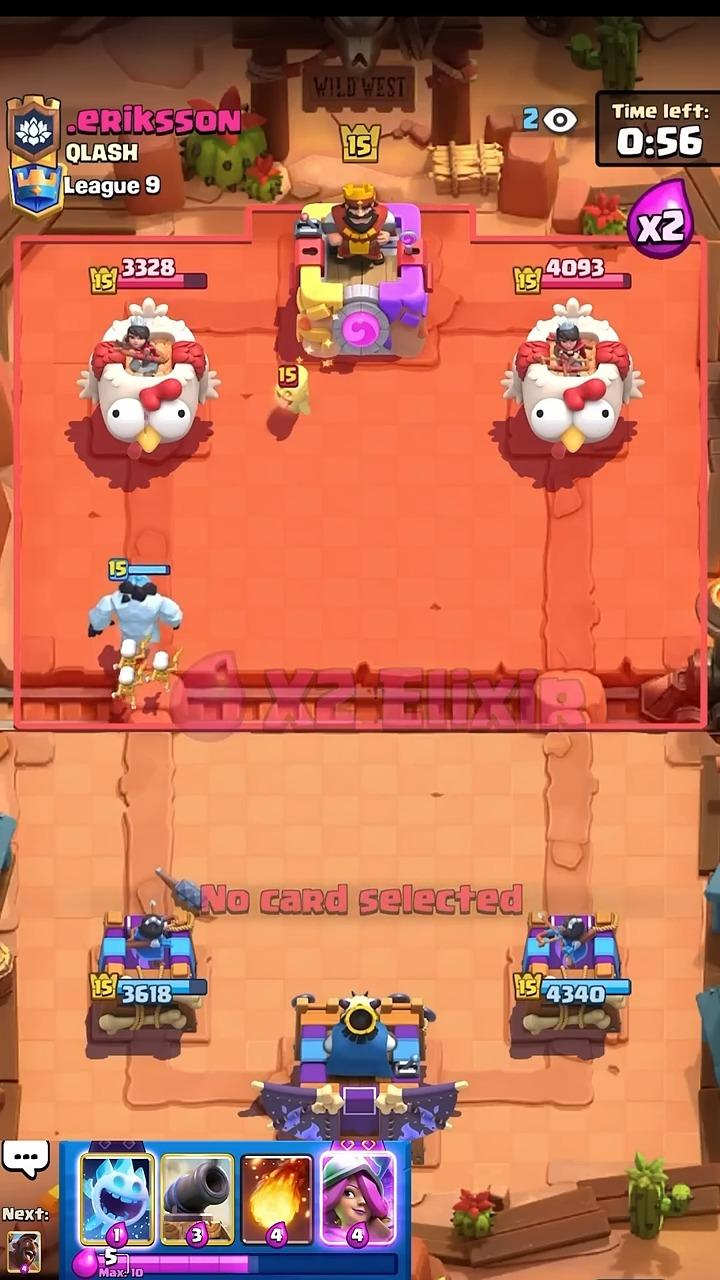heal spirit: (275, 365, 308, 416)
ice golem: (89, 575, 182, 643)
skeletons: (111, 640, 181, 710)
